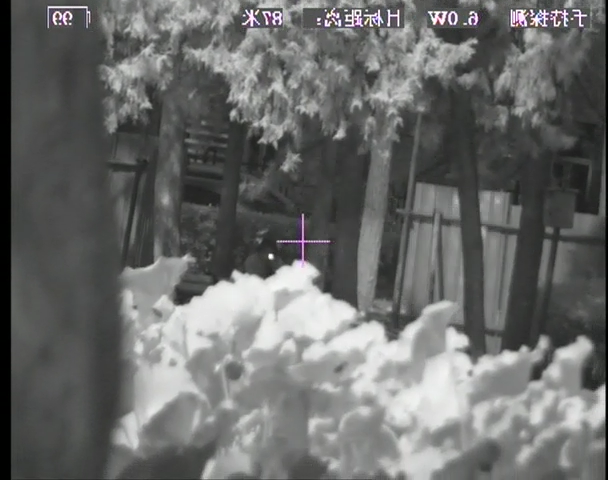my: (267, 252, 275, 260)
